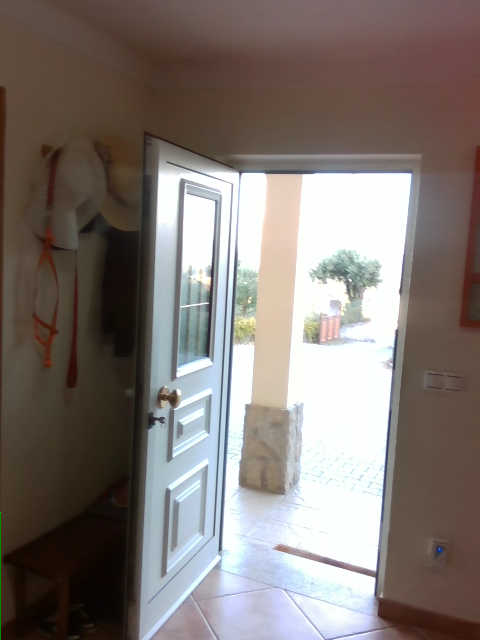open: (130, 136, 426, 639)
